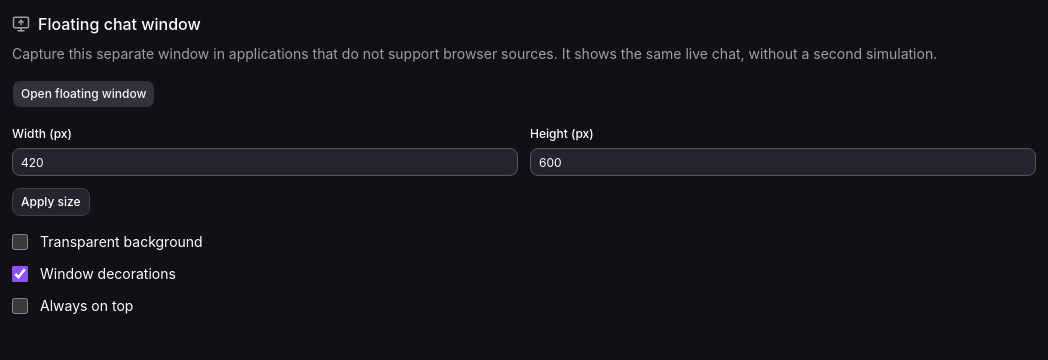
Scenario: rejects invalid sizes in UI and reports errors from Electron
Expected: the button "Open floating window" is enabled, [12, 80, 155, 108]
Replace the text in the number field labelled "Width (px)" with "30" at (265, 162), box [12, 148, 518, 176]
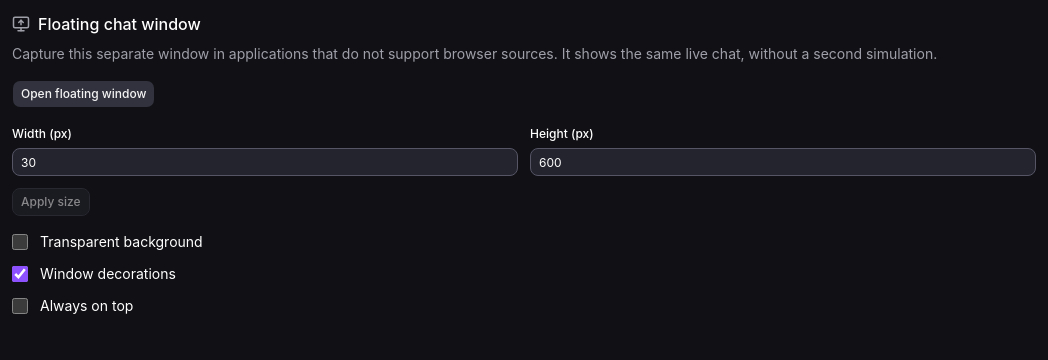
Expected: the button "Apply size" is disabled, [12, 188, 90, 216]
Click the button "Open floating window" at (84, 94), box [12, 80, 155, 108]
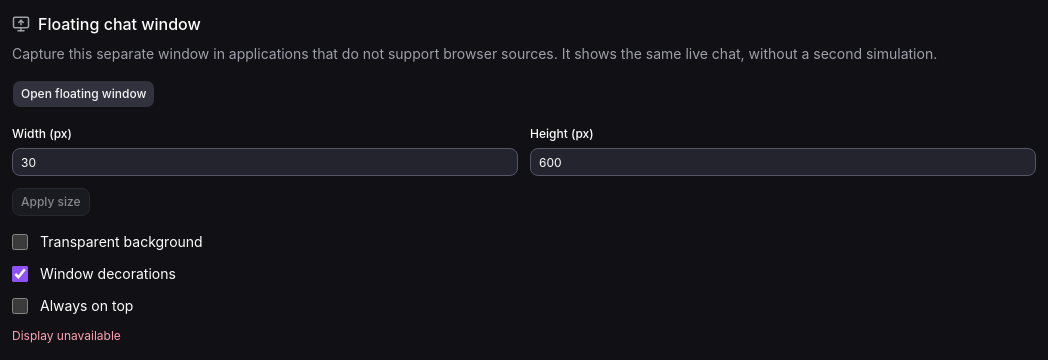
Expected: the message reads "Display unavailable", [12, 328, 121, 343]
